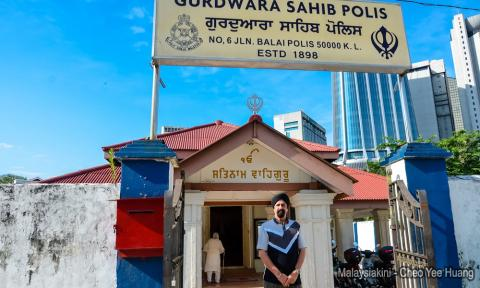Gurdwara: (108, 108, 352, 278)
